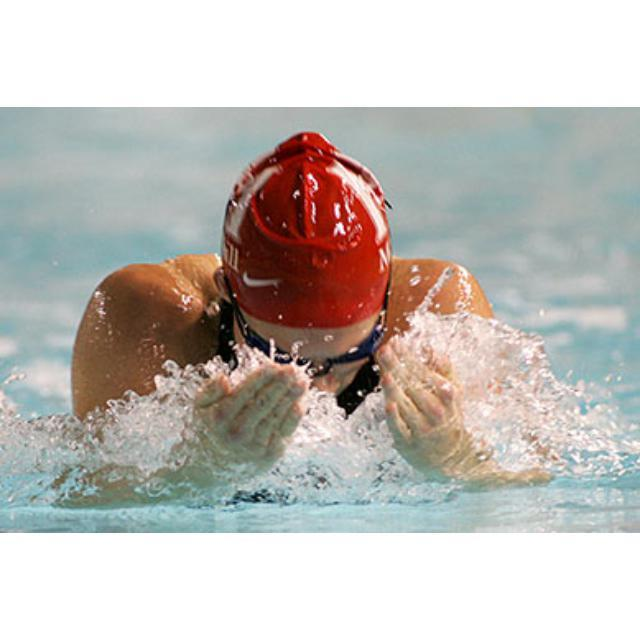human: (74, 131, 556, 488)
